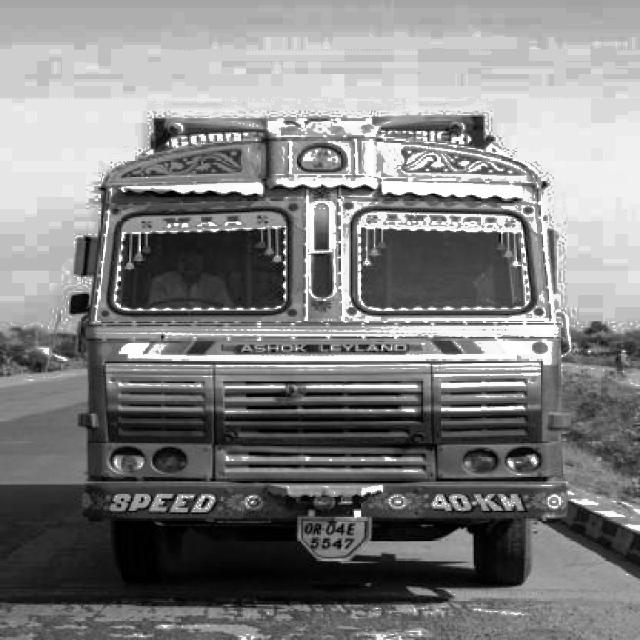HCV: (96, 114, 564, 548)
